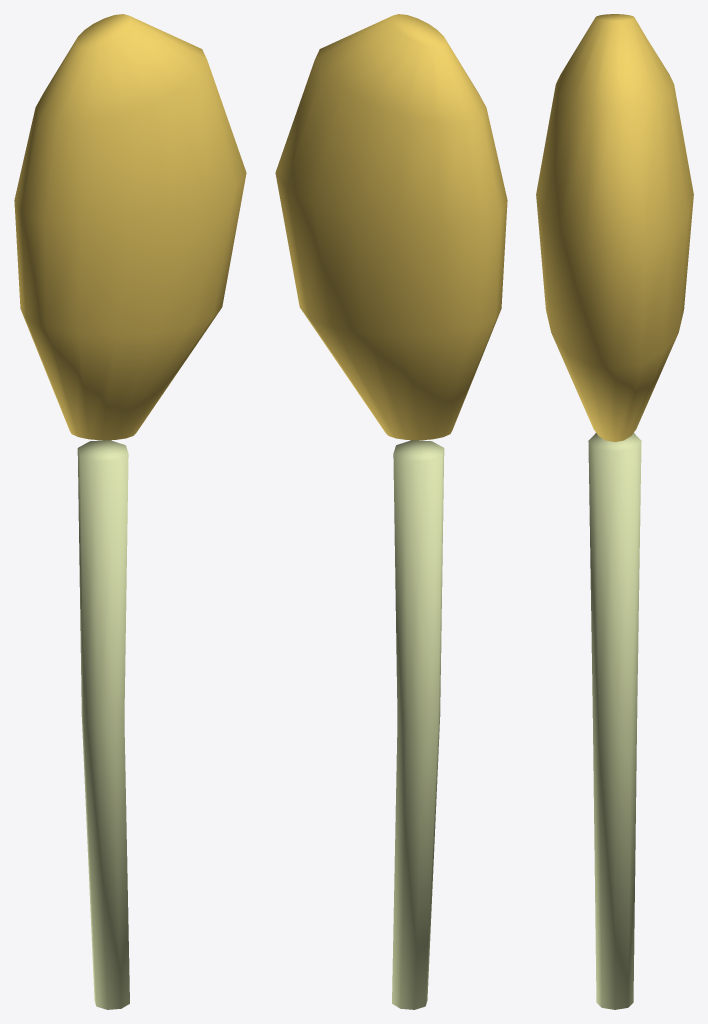
Rendered from anther.glb.
3 renders of one model, left to right at view 1: azimuth 30°, elevation 25°; view 2: azimuth 150°, elevation 25°; view 3: azimuth 270°, elevation 25°, orthographic.
Parts seen in each view (by area): view 1: anther_body, anther_filament; view 2: anther_body, anther_filament; view 3: anther_body, anther_filament.
Boxes of the visible parts, x1=… form: anther_body: x1=14, y1=14, x2=246, y2=440; anther_filament: x1=77, y1=440, x2=129, y2=1009; anther_body: x1=275, y1=14, x2=507, y2=440; anther_filament: x1=392, y1=440, x2=444, y2=1009; anther_body: x1=536, y1=14, x2=693, y2=441; anther_filament: x1=588, y1=433, x2=641, y2=1009.
Bounding box in the file's own units: 0.0048 × 0.0206 × 0.00298.
